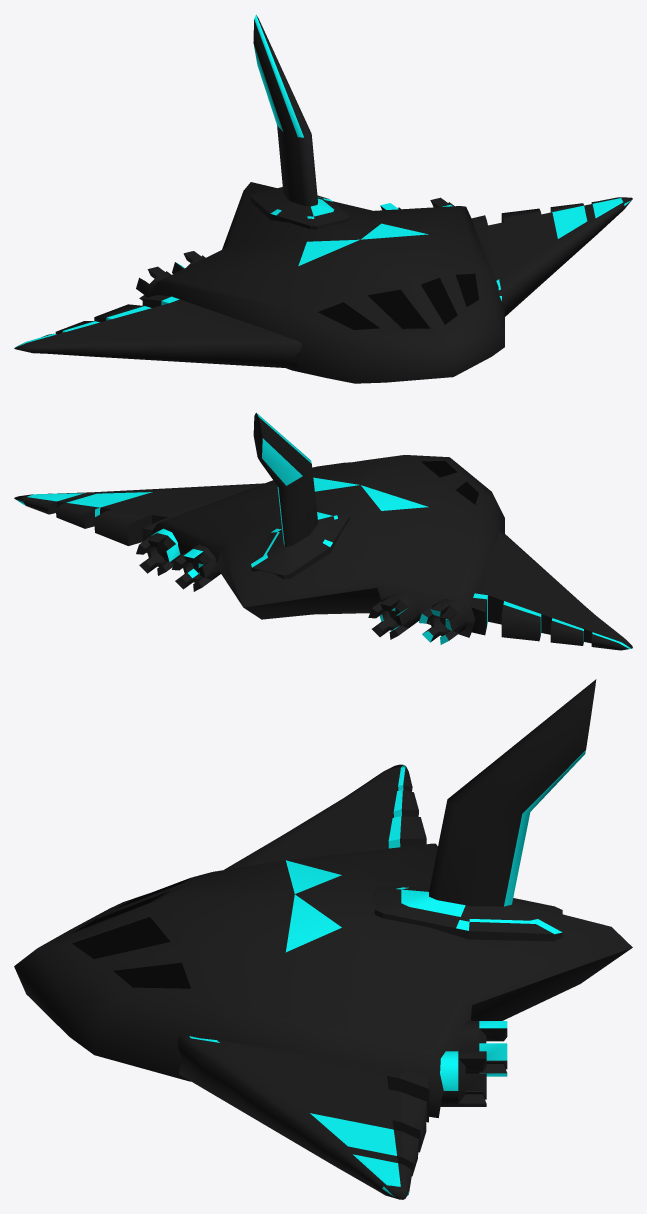
Rendered from Ship_2.fbx.
3 views of the same model, one above another, from view 1: azimuth 30°, elevation 25°; view 2: azimuth 150°, elevation 25°; view 3: azimuth 270°, elevation 25° (orthographic). The views are drawn at different scales.
Visible parts, largest first — view 1: ShipPart_Body_2; view 2: ShipPart_Body_2; view 3: ShipPart_Body_2.
Boxes of the visible parts, bbox=[...] form: ShipPart_Body_2: bbox=[14, 14, 632, 383]; ShipPart_Body_2: bbox=[14, 412, 632, 650]; ShipPart_Body_2: bbox=[14, 679, 632, 1199].
Size of the model in its own units: 2.09 by 0.8218 by 1.26.
